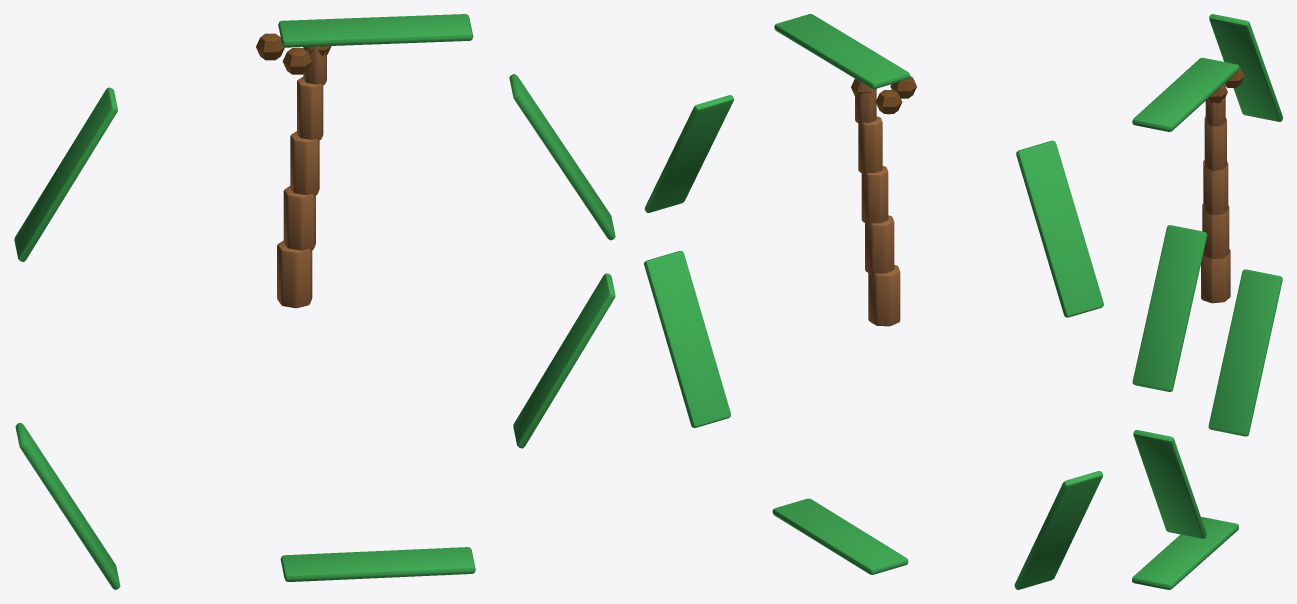
Rendered from DecoPalm.fbx.
The picture shows the model from 3 angles, left to right: view 1: azimuth 30°, elevation 25°; view 2: azimuth 150°, elevation 25°; view 3: azimuth 270°, elevation 25°; orthographic projection. The views are drawn at different scales.
Parts seen in each view (by area): view 1: DecoPalm; view 2: DecoPalm; view 3: DecoPalm.
Boxes of the visible parts, left/top/right/bottom form: DecoPalm: left=14, top=14, right=615, bottom=589; DecoPalm: left=644, top=14, right=1103, bottom=589; DecoPalm: left=1132, top=14, right=1282, bottom=589.
Bounding box in the file's own units: 859 × 812 × 239.
